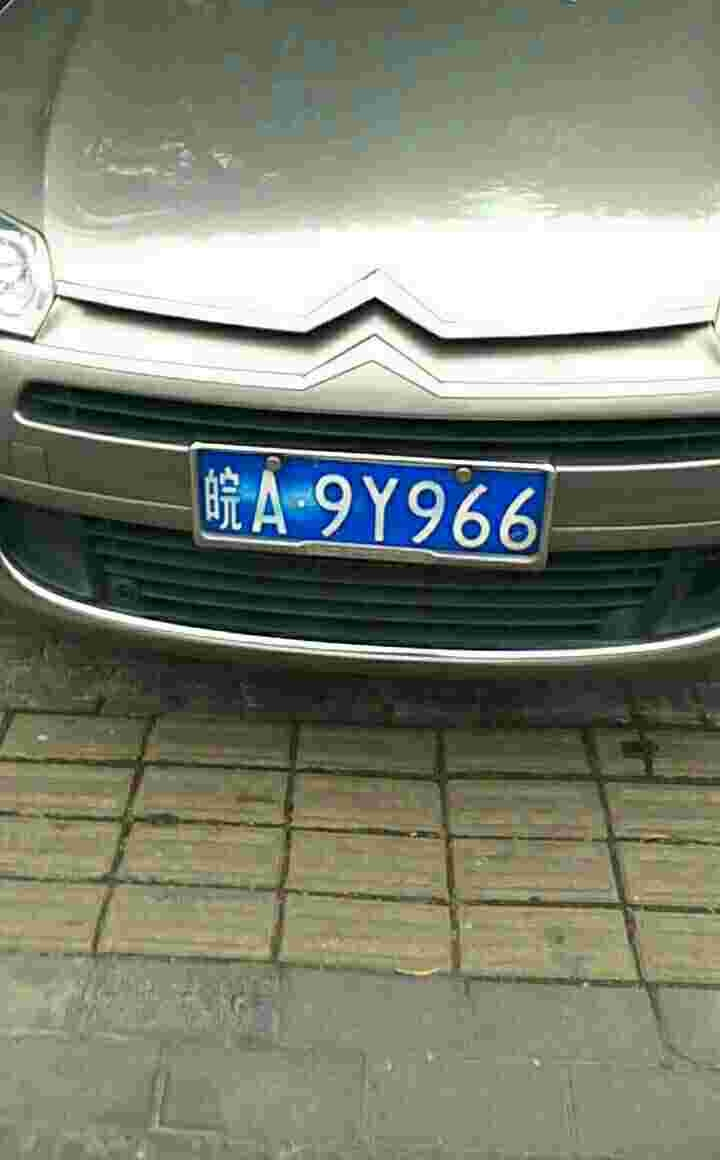license_plate: (187, 446, 544, 559)
